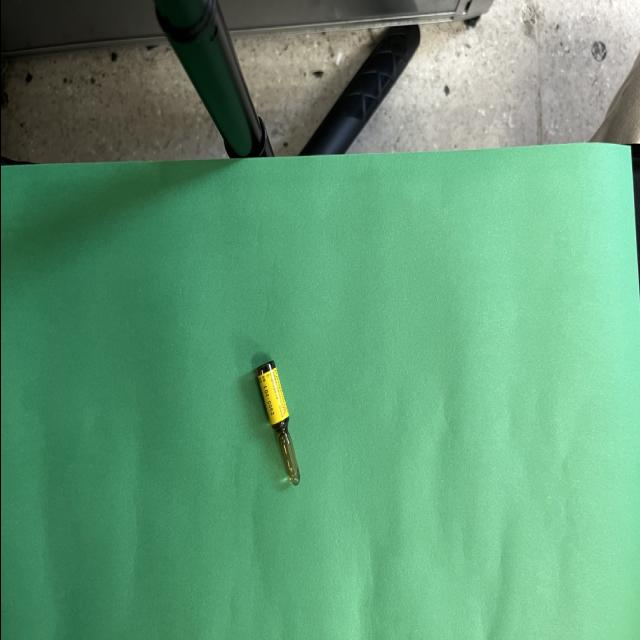Ampoules: (256, 360, 299, 485)
